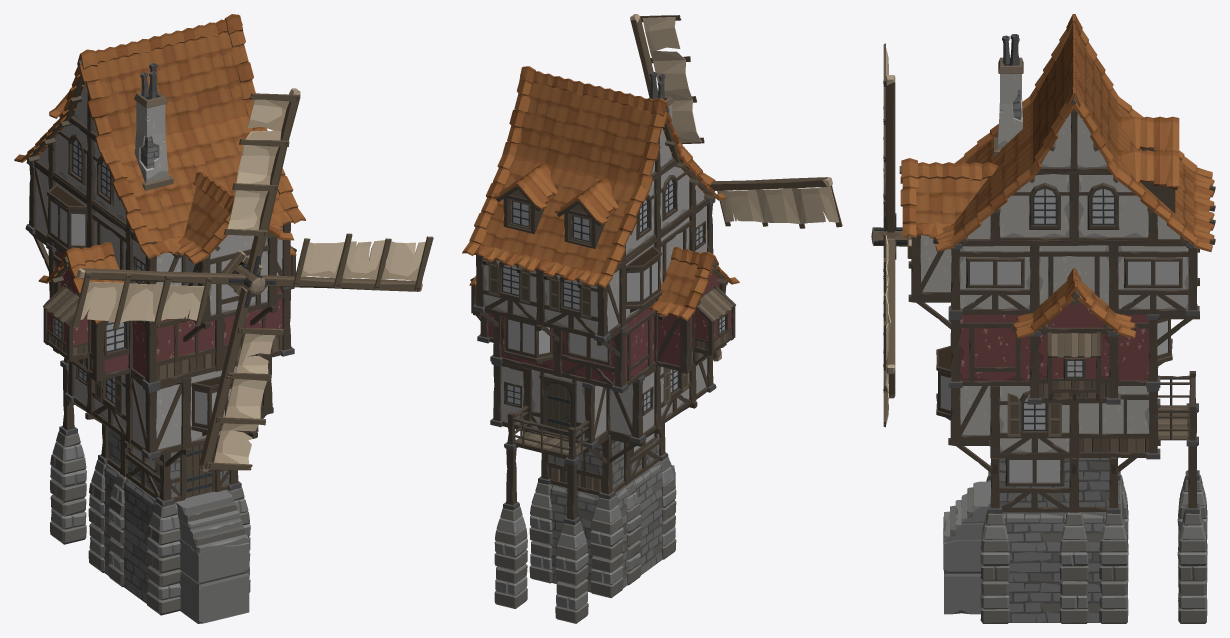
File: SM_Bld_Preset_House_Windmill_01_Optimized.fbx
The picture shows the model from 3 angles, left to right: view 1: azimuth 30°, elevation 25°; view 2: azimuth 150°, elevation 25°; view 3: azimuth 270°, elevation 25°; orthographic projection. The views are drawn at different scales.
Parts seen in each view (by area): view 1: SM_Bld_Preset_House_Windmill_01_Optimized, SM_Bld_Preset_House_Windmill_01_Blades_Optimized, SM_Bld_Preset_House_Windmill_01_Base_Optimized, SM_Bld_Preset_House_Windmill_01_Glass_Optimized; view 2: SM_Bld_Preset_House_Windmill_01_Optimized, SM_Bld_Preset_House_Windmill_01_Base_Optimized, SM_Bld_Preset_House_Windmill_01_Blades_Optimized, SM_Bld_Preset_House_Windmill_01_Glass_Optimized; view 3: SM_Bld_Preset_House_Windmill_01_Optimized, SM_Bld_Preset_House_Windmill_01_Base_Optimized, SM_Bld_Preset_House_Windmill_01_Glass_Optimized, SM_Bld_Preset_House_Windmill_01_Blades_Optimized.
Boxes of the visible parts, x1=… form: SM_Bld_Preset_House_Windmill_01_Optimized: x1=14, y1=14, x2=305, y2=507; SM_Bld_Preset_House_Windmill_01_Blades_Optimized: x1=72, y1=88, x2=433, y2=471; SM_Bld_Preset_House_Windmill_01_Base_Optimized: x1=50, y1=431, x2=250, y2=623; SM_Bld_Preset_House_Windmill_01_Glass_Optimized: x1=51, y1=140, x2=231, y2=467; SM_Bld_Preset_House_Windmill_01_Optimized: x1=462, y1=66, x2=739, y2=525; SM_Bld_Preset_House_Windmill_01_Base_Optimized: x1=494, y1=457, x2=676, y2=623; SM_Bld_Preset_House_Windmill_01_Blades_Optimized: x1=630, y1=14, x2=842, y2=361; SM_Bld_Preset_House_Windmill_01_Glass_Optimized: x1=503, y1=180, x2=724, y2=451; SM_Bld_Preset_House_Windmill_01_Optimized: x1=899, y1=14, x2=1215, y2=513; SM_Bld_Preset_House_Windmill_01_Base_Optimized: x1=943, y1=475, x2=1207, y2=623; SM_Bld_Preset_House_Windmill_01_Glass_Optimized: x1=941, y1=189, x2=1178, y2=482; SM_Bld_Preset_House_Windmill_01_Blades_Optimized: x1=871, y1=43, x2=907, y2=427.
Bounding box in the file's own units: 1346 × 1949 × 1089.
